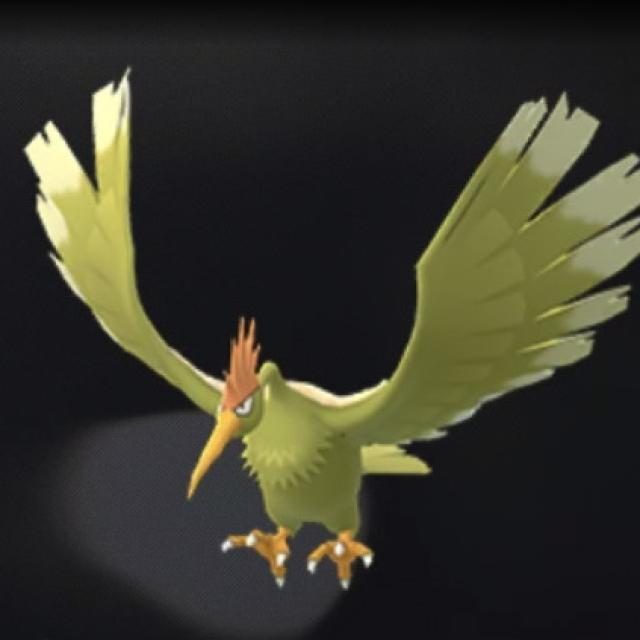Fearow: (107, 191, 522, 597)
